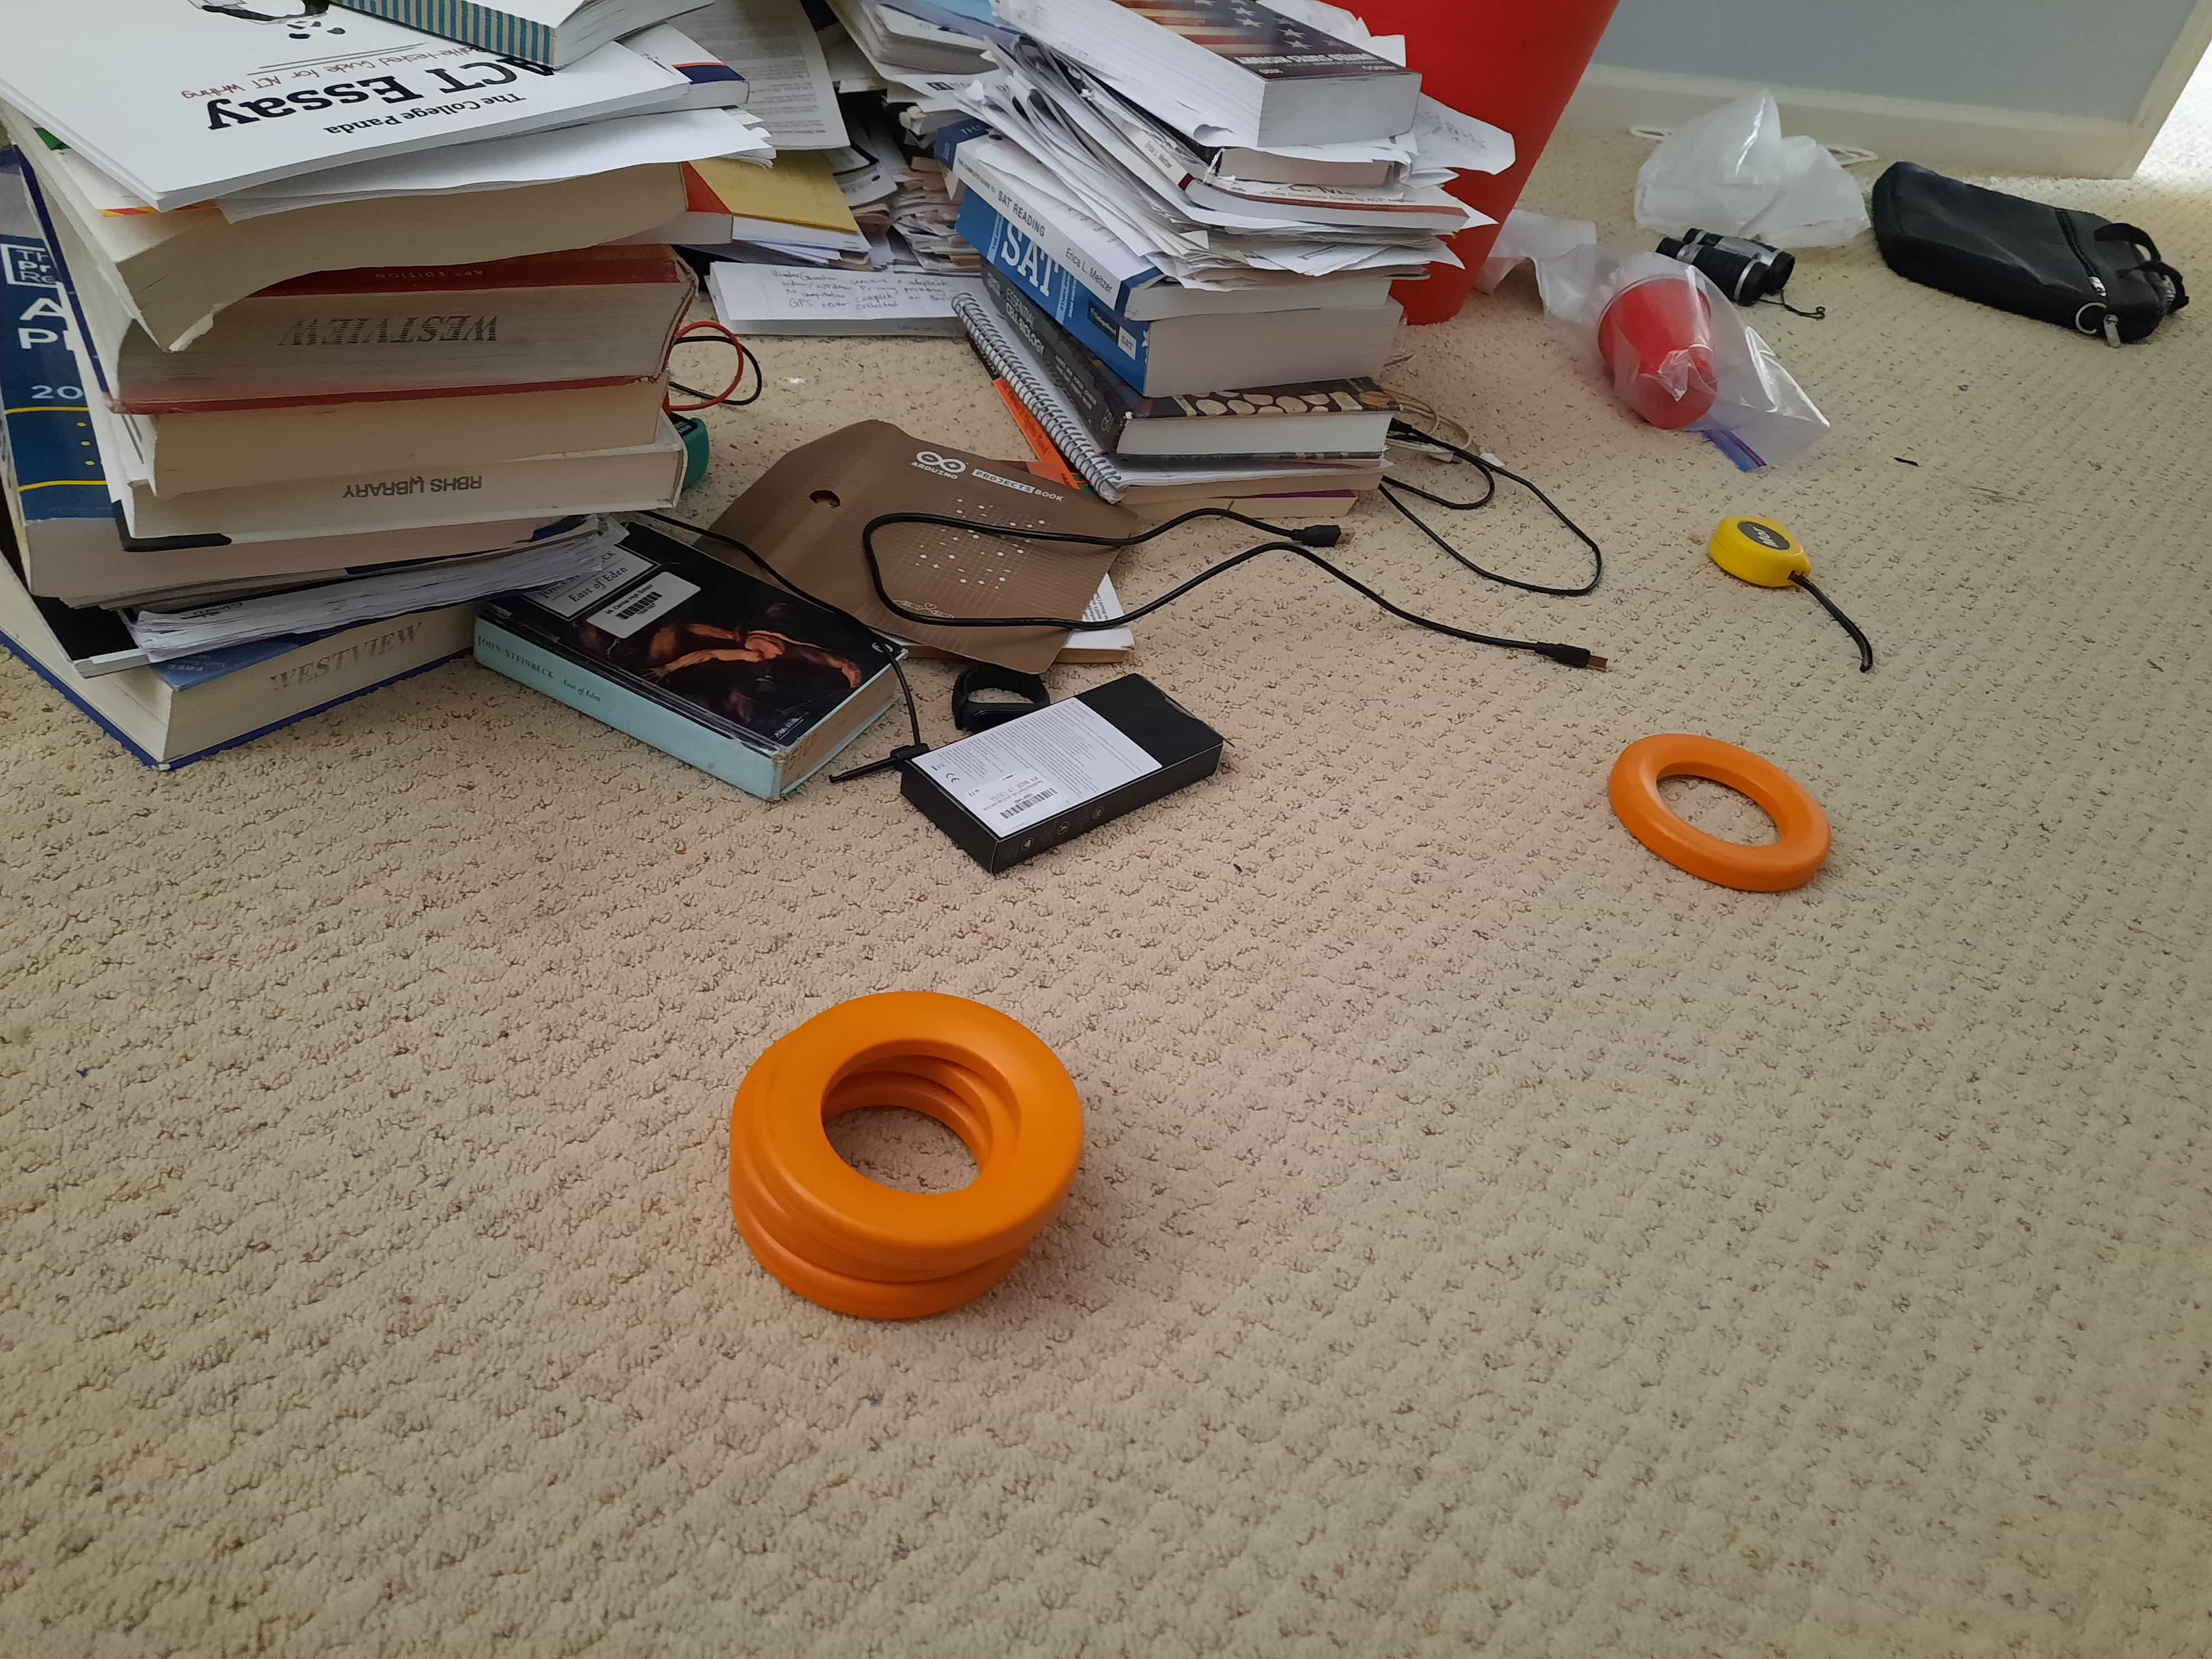FourStack: (719, 988, 1083, 1317)
OneStack: (1609, 734, 1832, 897)
